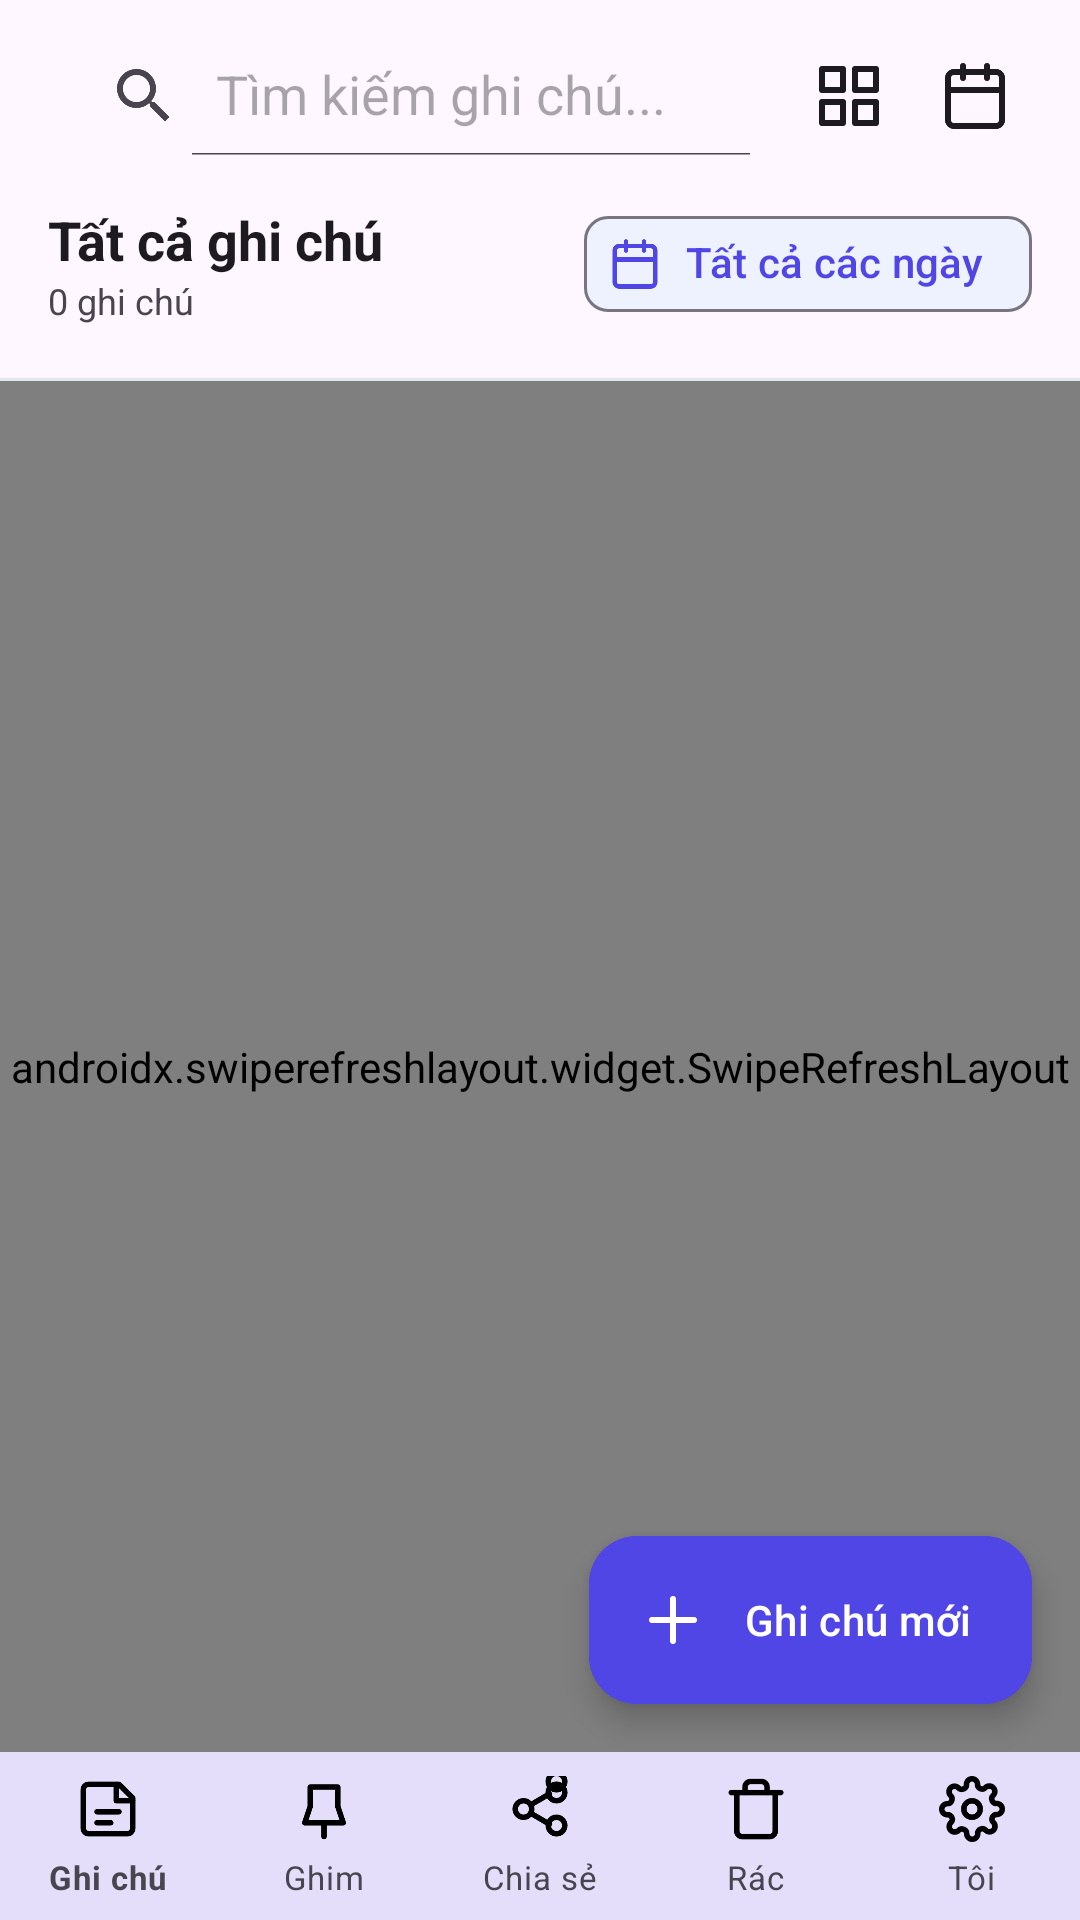

Locate icon controls on the screen. Image size 1080*1920, boxes as (x1, y1, x2, y2).
Chuyển chế độ xem: (819, 66, 879, 126)
